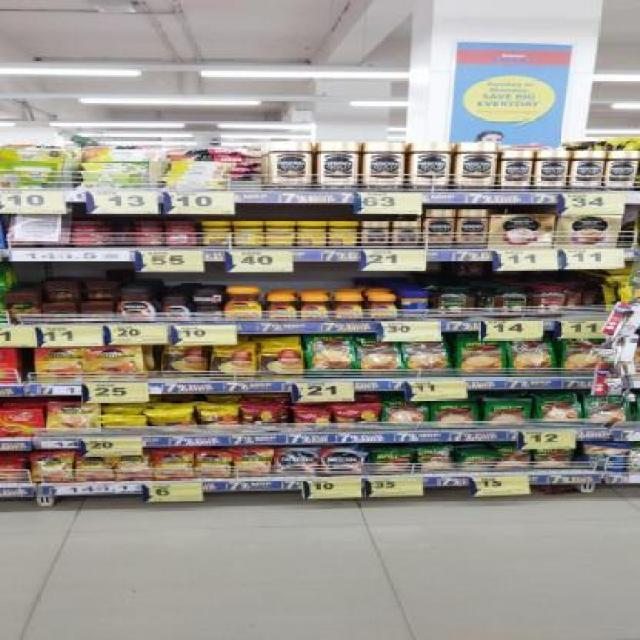Coffee: (269, 140, 315, 191), (455, 142, 497, 190), (319, 140, 360, 188), (365, 141, 405, 189), (33, 347, 84, 383), (90, 347, 143, 381), (413, 142, 449, 191), (46, 403, 99, 435), (570, 150, 606, 192), (223, 286, 261, 322), (118, 287, 156, 323), (499, 151, 531, 193), (607, 151, 639, 192), (534, 150, 566, 191), (321, 448, 363, 475), (31, 454, 71, 482), (278, 448, 317, 476), (458, 209, 486, 248), (425, 210, 453, 248), (77, 454, 115, 481), (153, 452, 191, 478), (197, 452, 233, 478), (236, 451, 270, 477), (117, 454, 151, 480), (366, 295, 398, 321), (362, 221, 390, 248), (162, 294, 190, 321), (334, 295, 363, 321), (393, 221, 419, 249), (300, 295, 328, 321), (267, 295, 296, 319), (193, 290, 221, 304), (194, 307, 222, 321)
